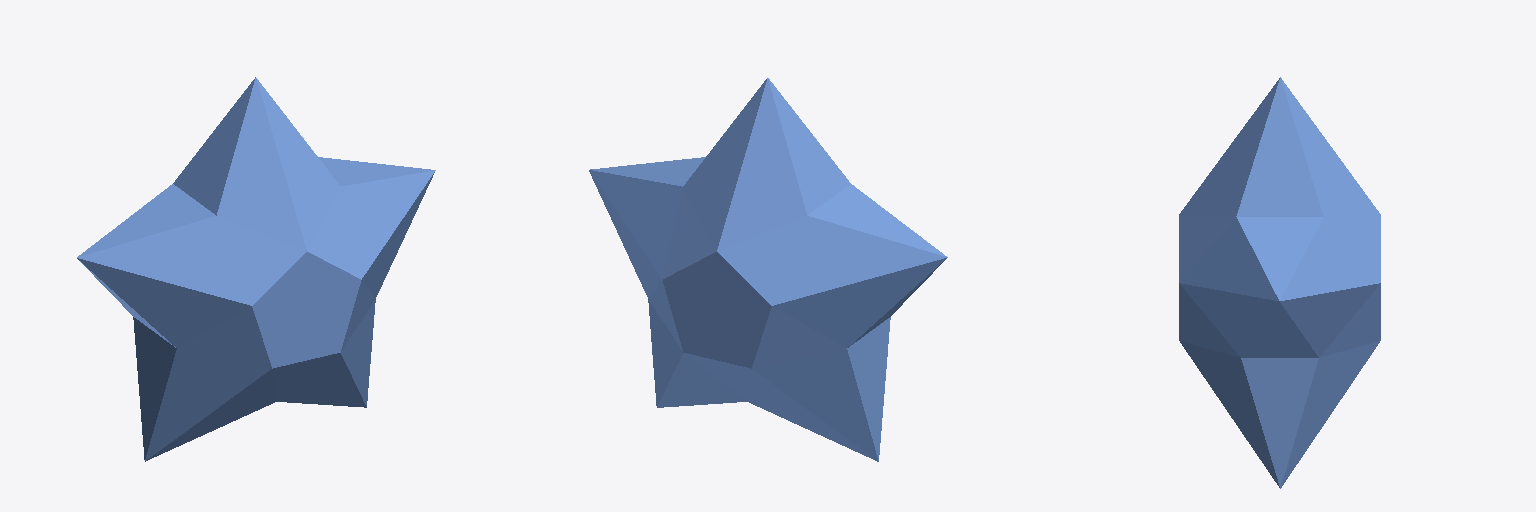
The picture shows the model from 3 angles: view 1: azimuth 30°, elevation 25°; view 2: azimuth 150°, elevation 25°; view 3: azimuth 270°, elevation 25°; orthographic projection.
Visible parts, largest first — view 1: Sapphire_Star_Diamond_Star_Circle.001; view 2: Sapphire_Star_Diamond_Star_Circle.001; view 3: Sapphire_Star_Diamond_Star_Circle.001.
Part boxes in pixels (bbox=[...]): Sapphire_Star_Diamond_Star_Circle.001: bbox=[77, 77, 435, 461]; Sapphire_Star_Diamond_Star_Circle.001: bbox=[589, 78, 947, 461]; Sapphire_Star_Diamond_Star_Circle.001: bbox=[1179, 77, 1380, 488].
Bounding box in the file's own units: 1.54 × 1.47 × 0.7516.
Materials: 1 (1 with a texture image).